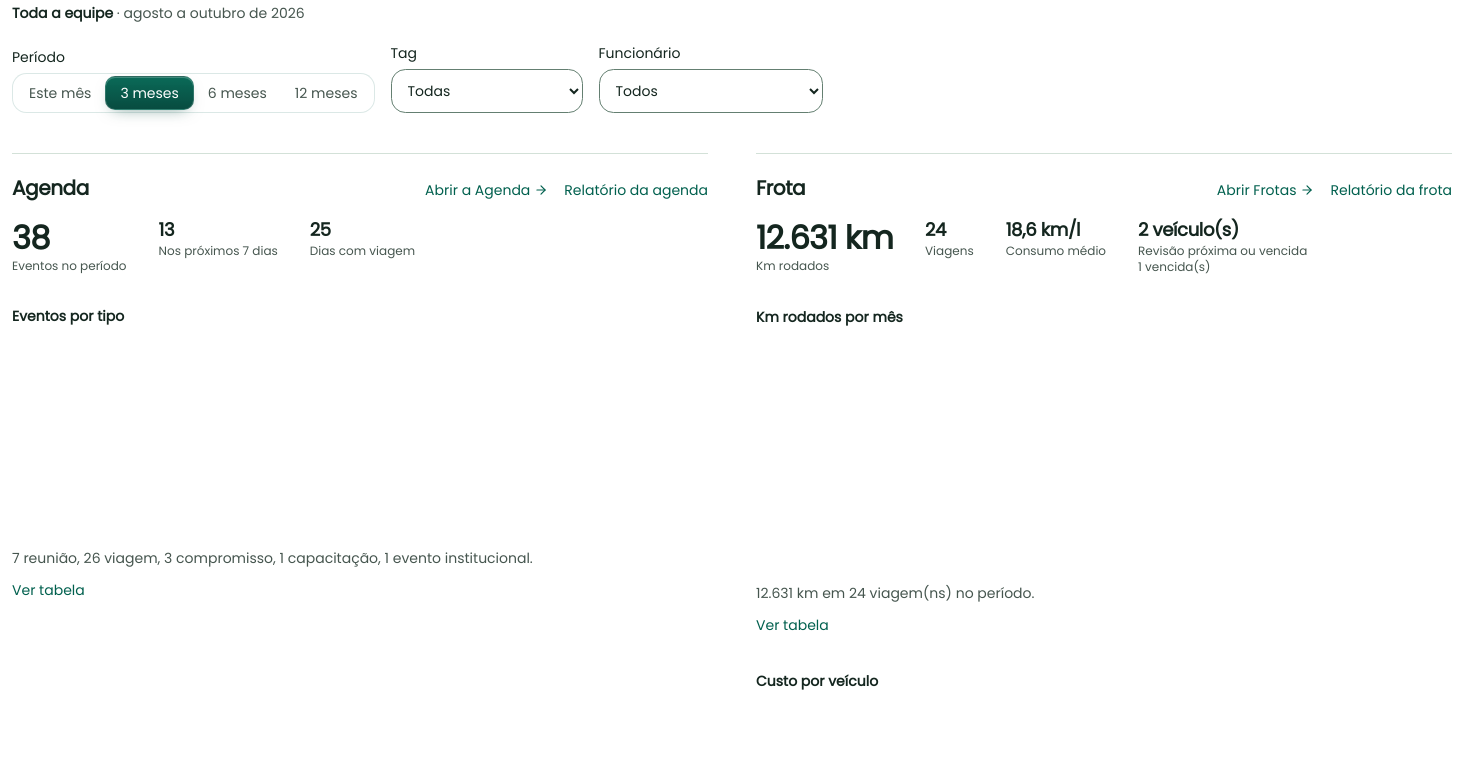
Test: Indicadores › os filtros de funcionário e de tag mudam os números
Select "Ana Ribeiro" in the dropdown labelled "Funcionário" at [710, 91], box left=598, top=69, right=822, bottom=113
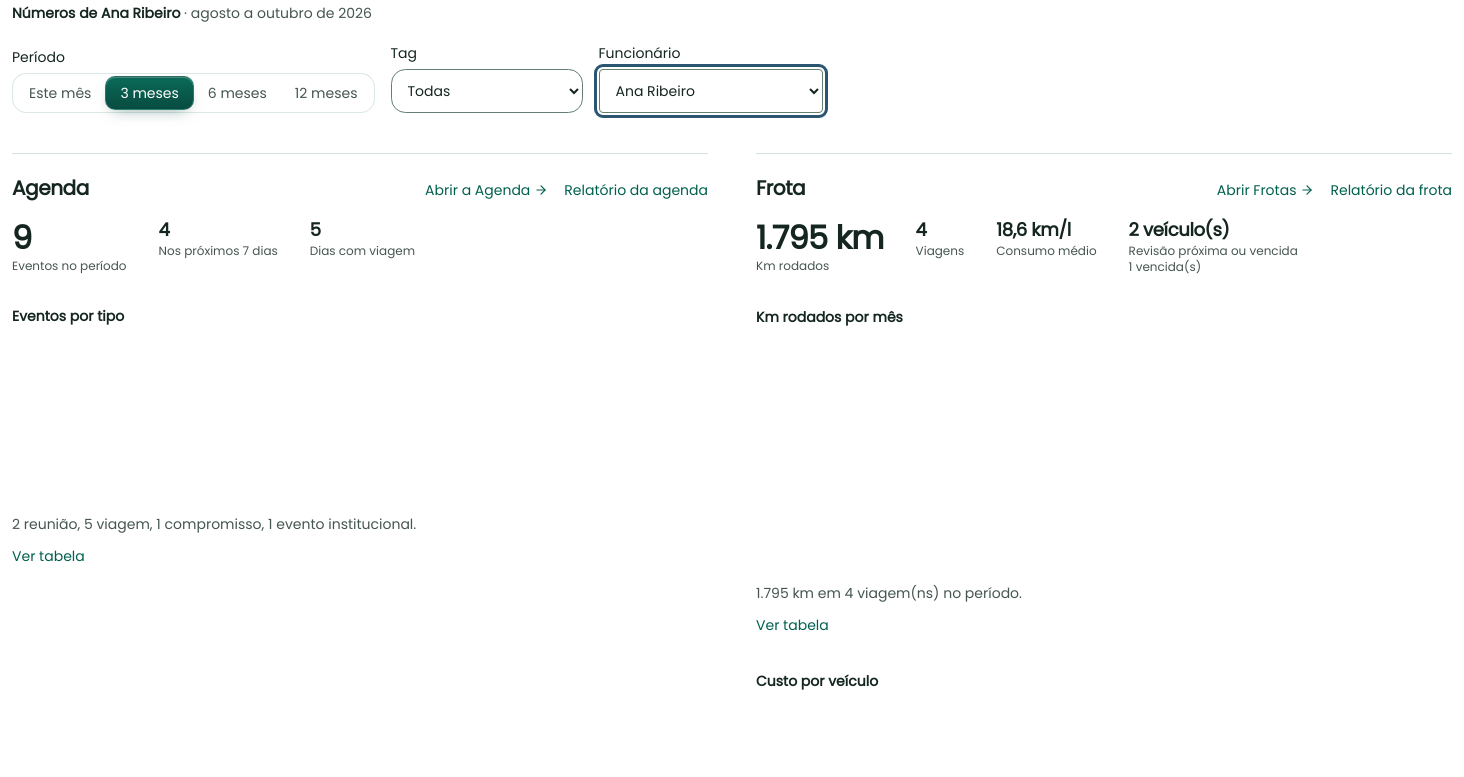
Expected: the text "Números de Ana Ribeiro" is shown, left=12, top=3, right=180, bottom=23
Select "Todos" in the dropdown labelled "Funcionário" at [710, 91], box left=598, top=69, right=822, bottom=113
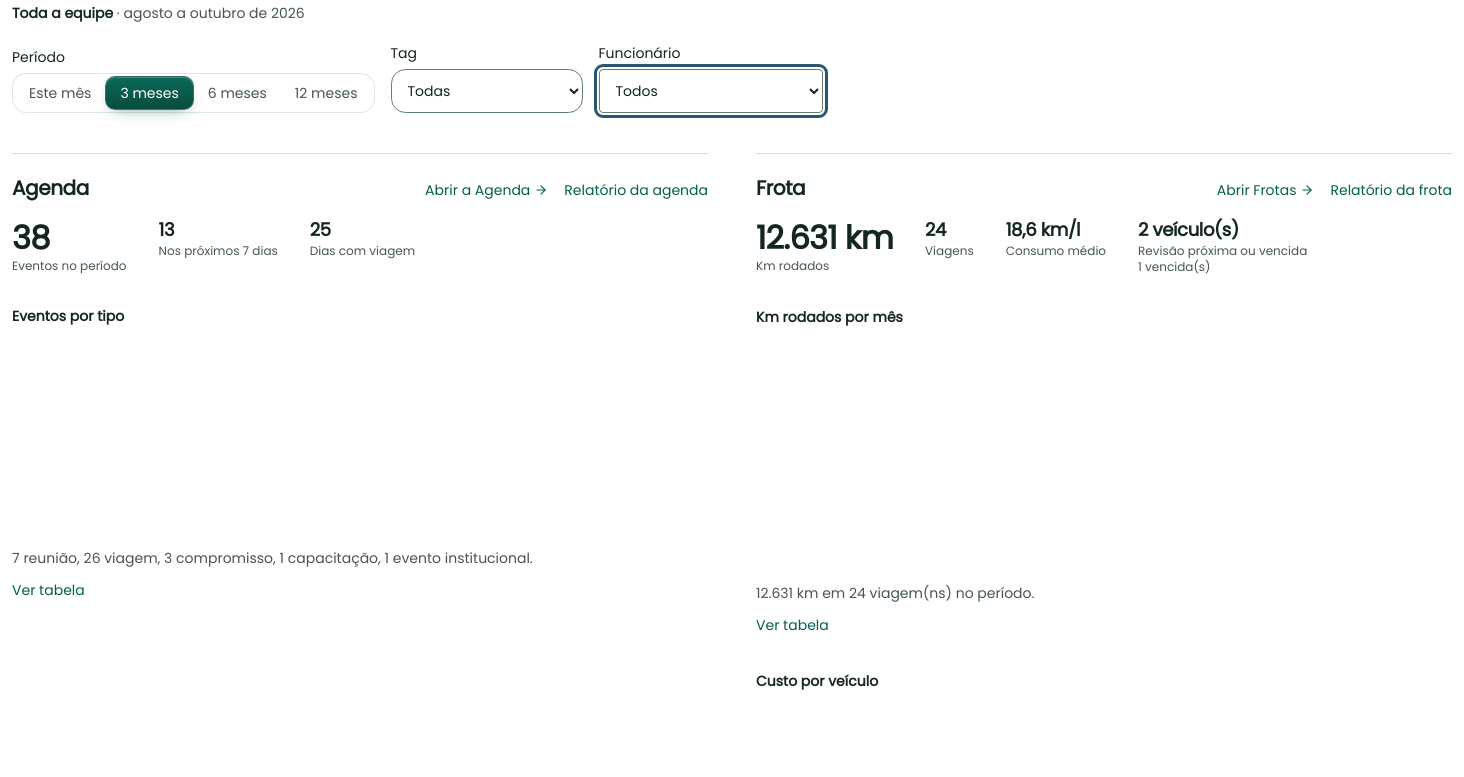
Select "SENAR" in the dropdown labelled "Tag" at [486, 91], box left=390, top=69, right=582, bottom=113
(page scrolled)
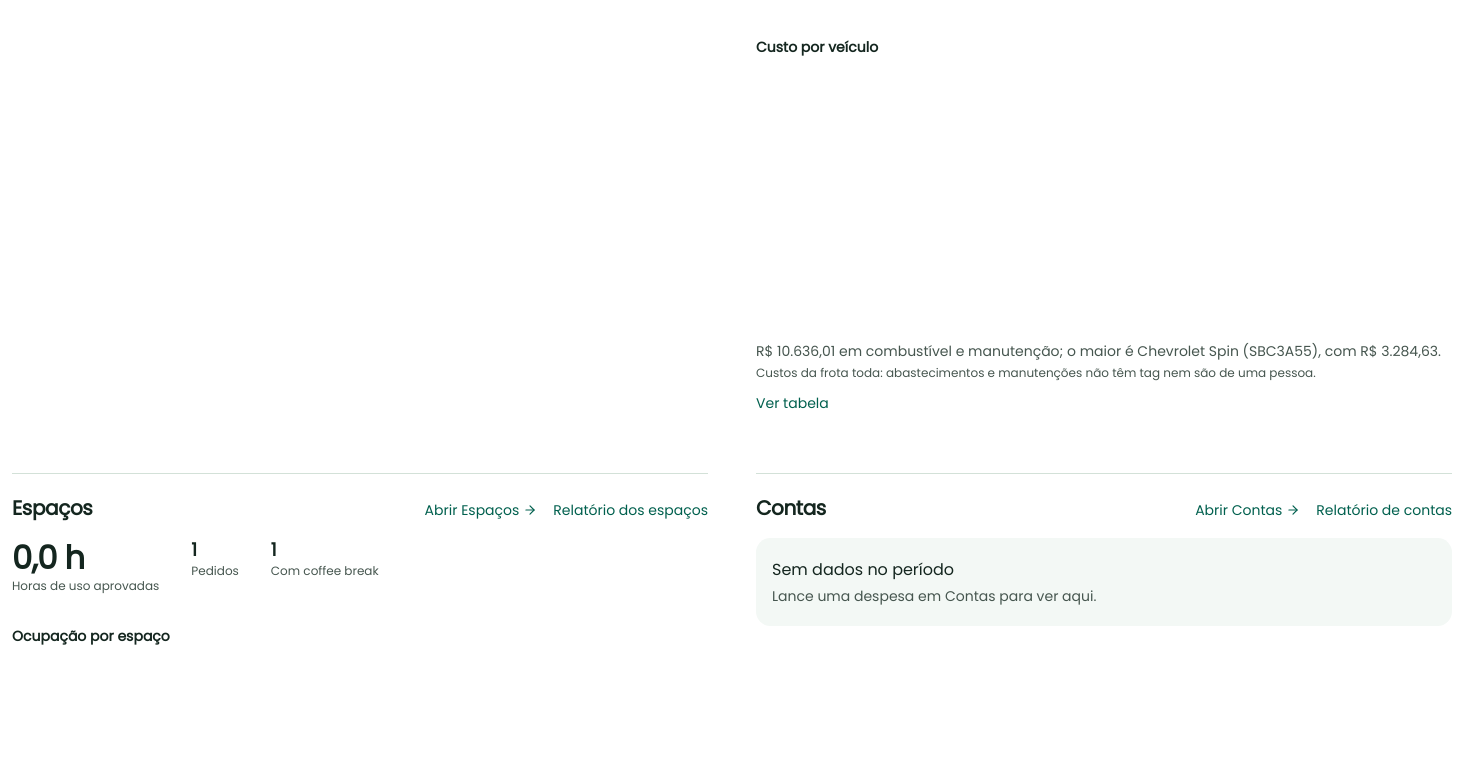
Expected: the text "Custos da frota toda" is shown, left=756, top=364, right=1316, bottom=381
